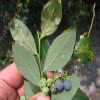Blueberry leaf: (42, 28, 79, 73), (10, 42, 43, 88)
